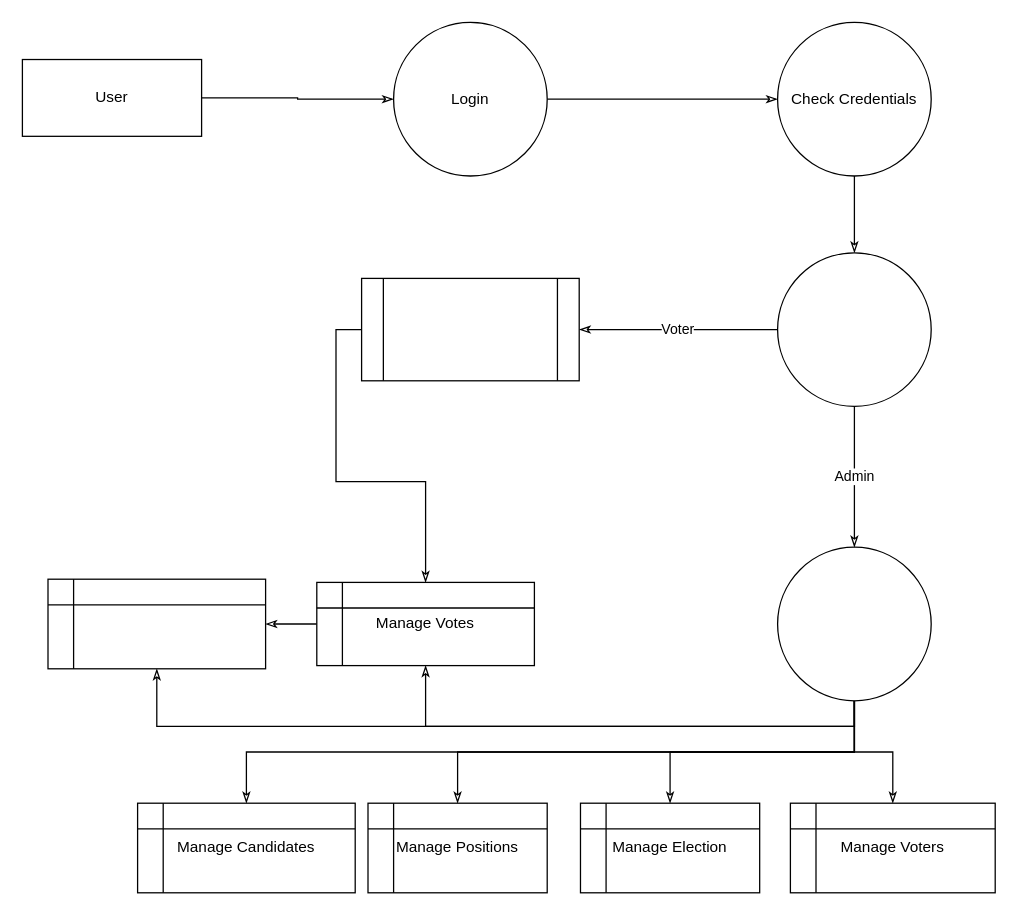
This 1018x915 diagram has some shape labels left out. Each missing label, with the centre of its shape:
"Check Role" belongs at pixel 853 329.
"Manage Election Results" belongs at pixel 156 623.
"Manage Modules" belongs at pixel 853 623.
"Voting Proccess" belongs at pixel 469 329.
